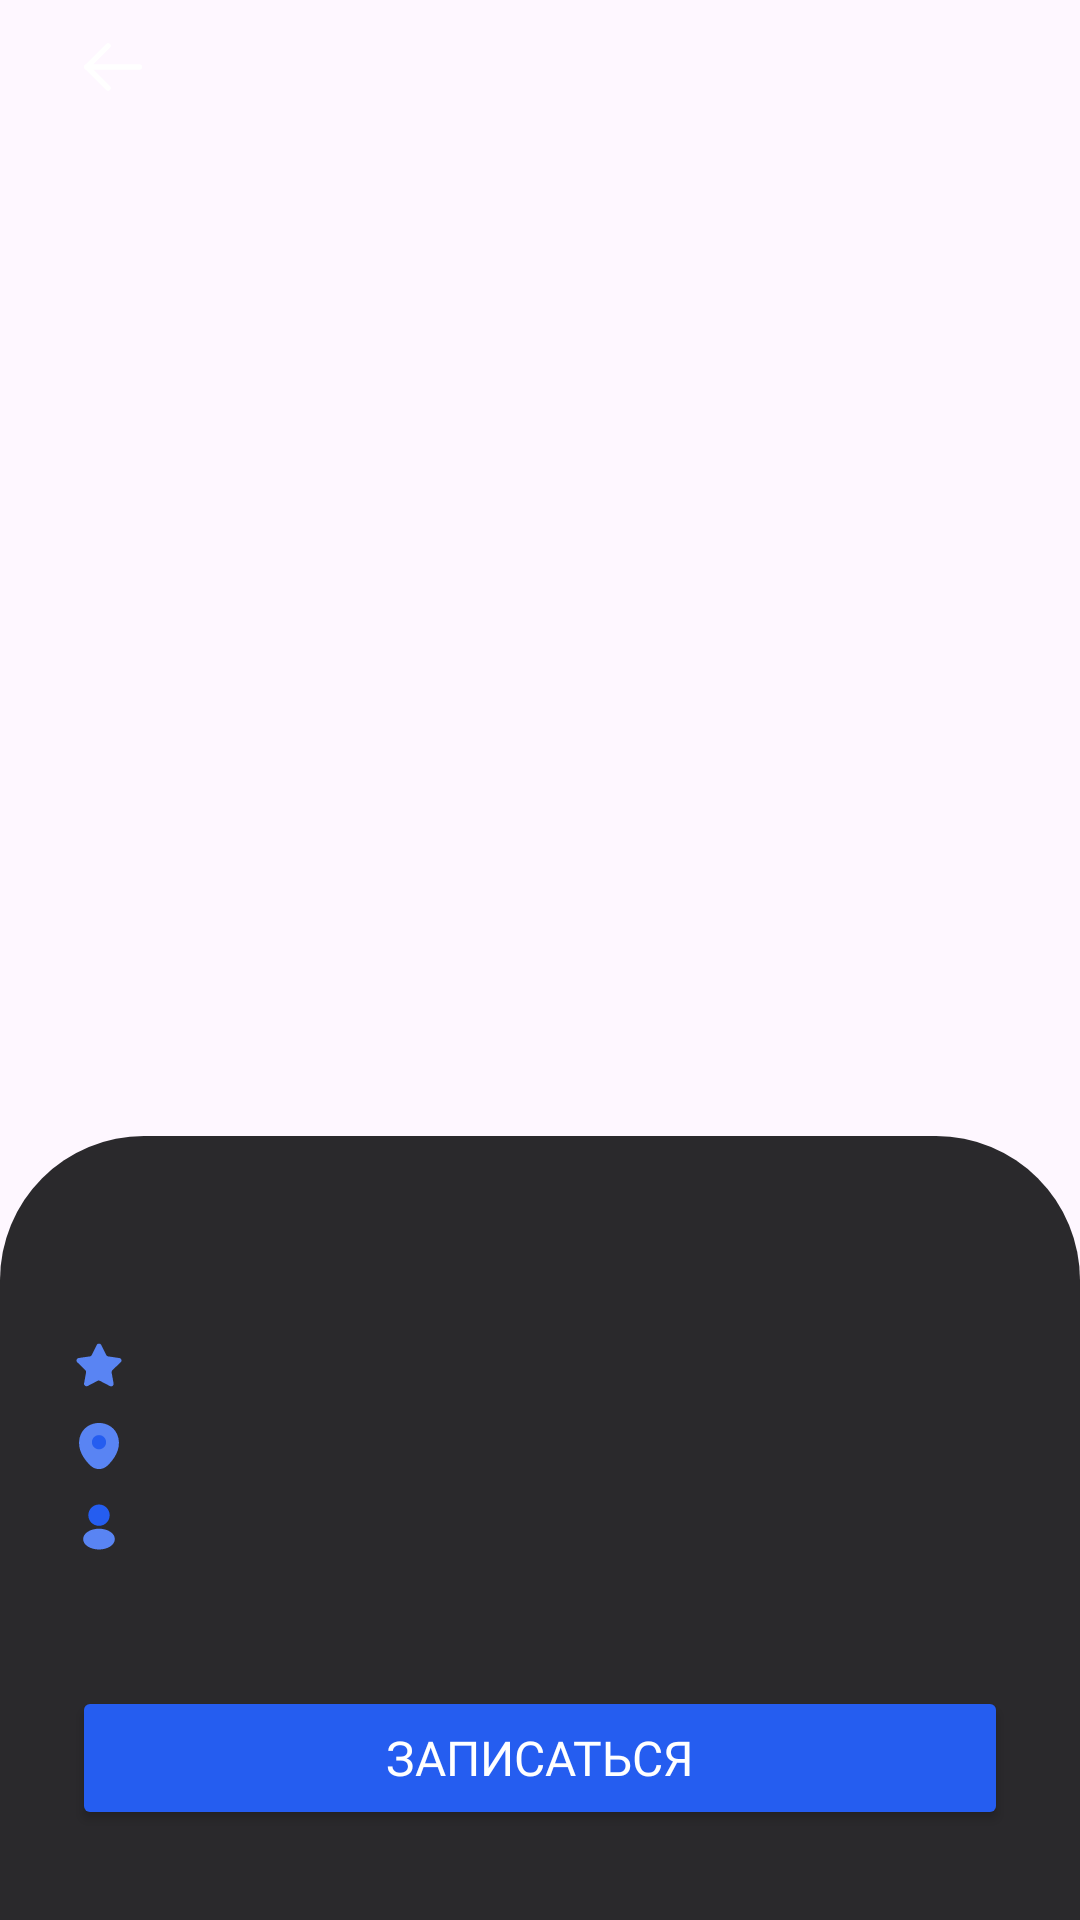

Icons on this 1080*1920 Android screen, each with its box as (x1, y1, x2, y2):
location: (79, 1423, 119, 1469)
textbook author: (83, 1504, 115, 1550)
